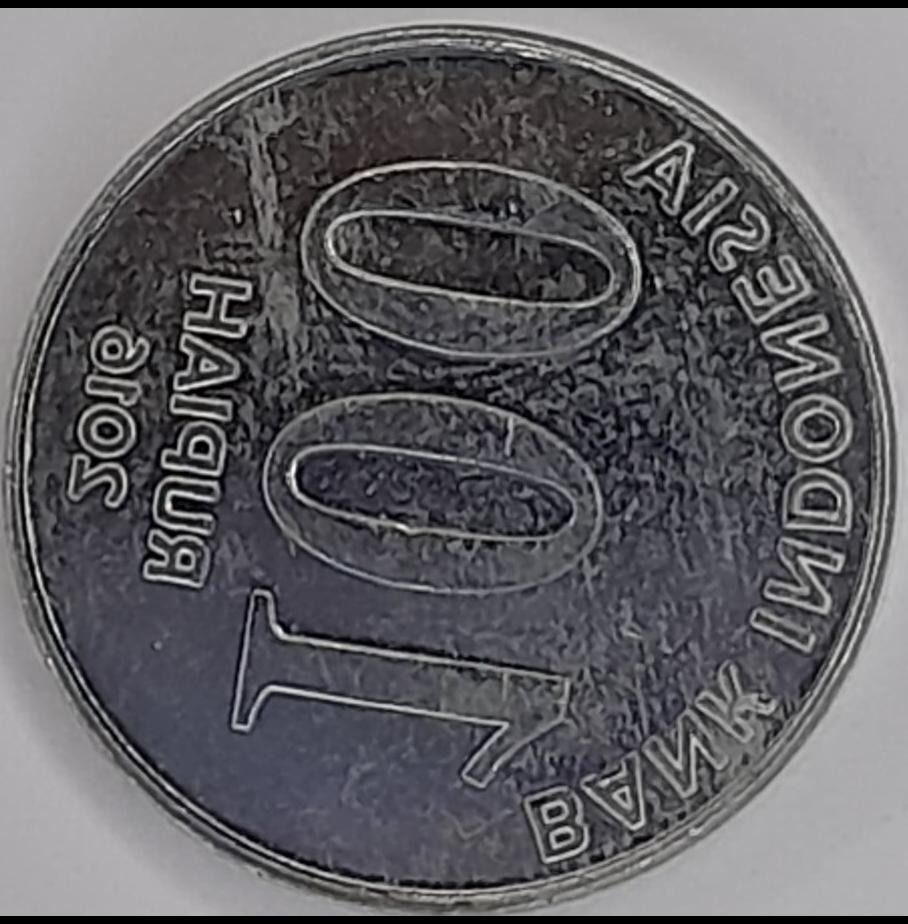coin_100_e2016: (0, 19, 903, 910)
